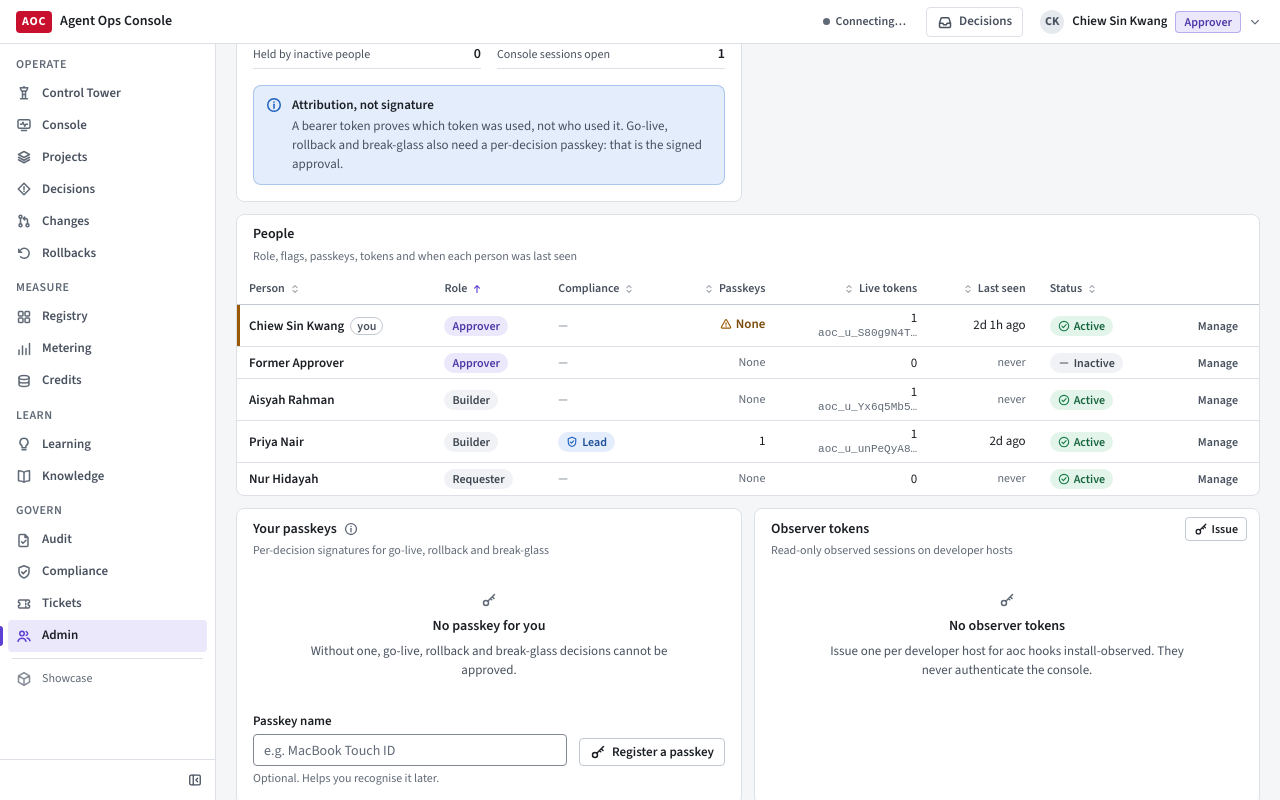
Admin › Users page › issues a token: secret shown once with copy and the attribution caveat, then only its prefix
(page scrolled)
Click the row named "Manage Aisyah Rahman" at (748, 400), box [237,379,1259,421]
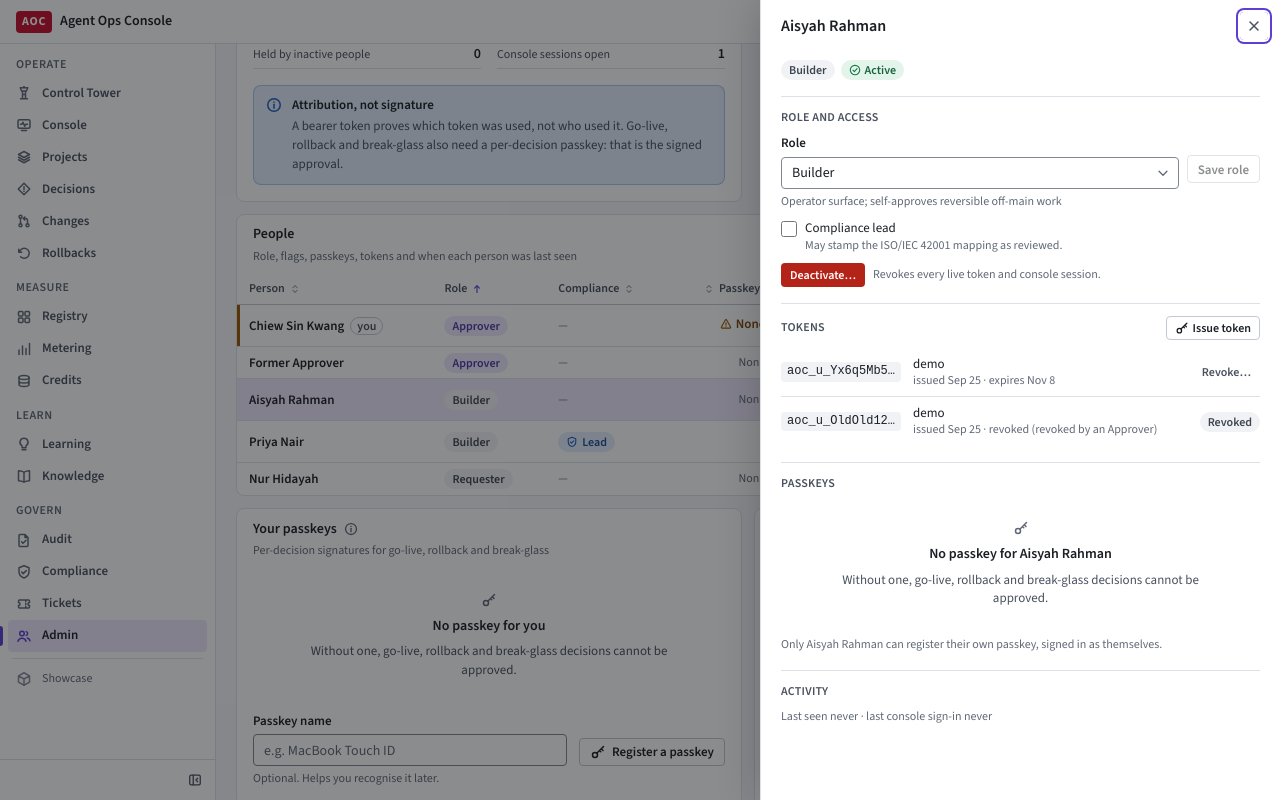
Expected: the text "aoc_u_Yx6q5Mb5…" is shown, [781,362,901,382]
Click the button "Issue token" at (1213, 328), box [1166,316,1260,340]
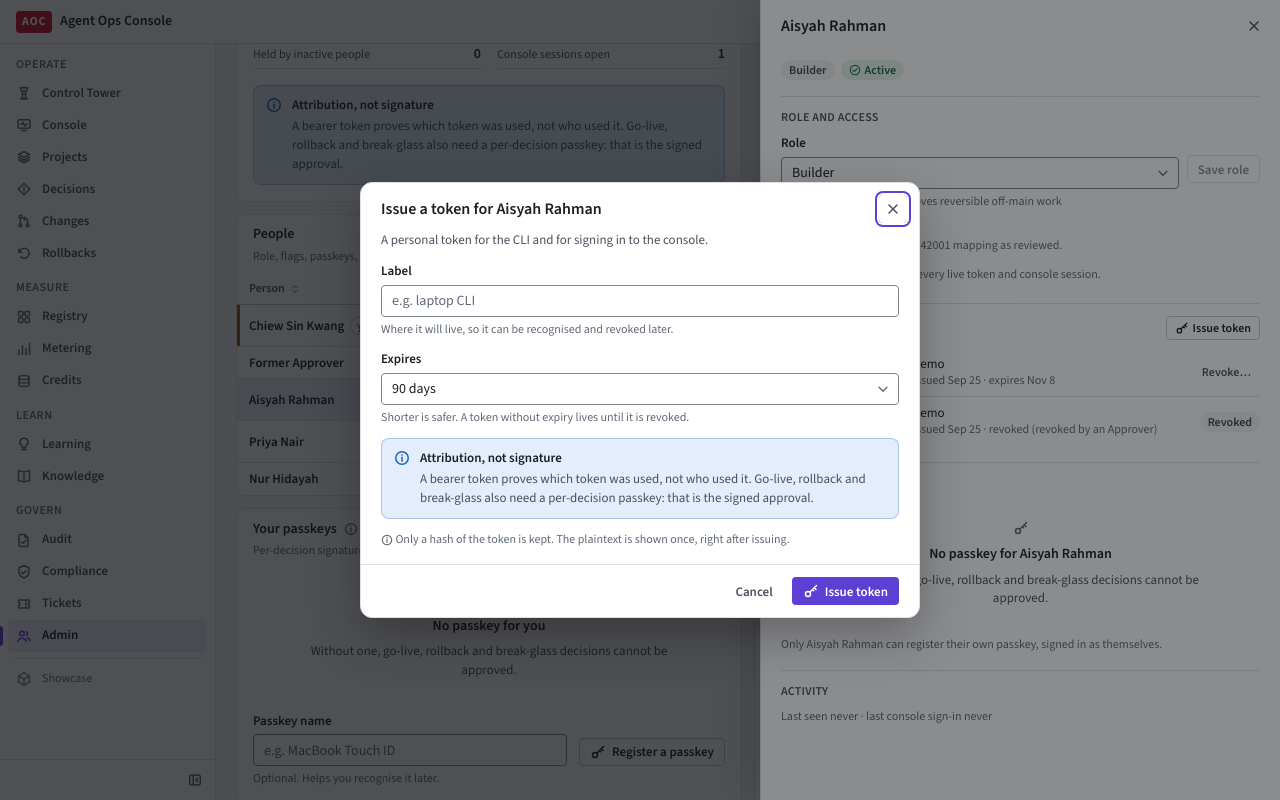
Expected: the text "Attribution, not signature" is shown, [420,449,562,466]
Type "laptop CLI" into the field labelled "Label" at (640, 301), box [381,285,899,317]
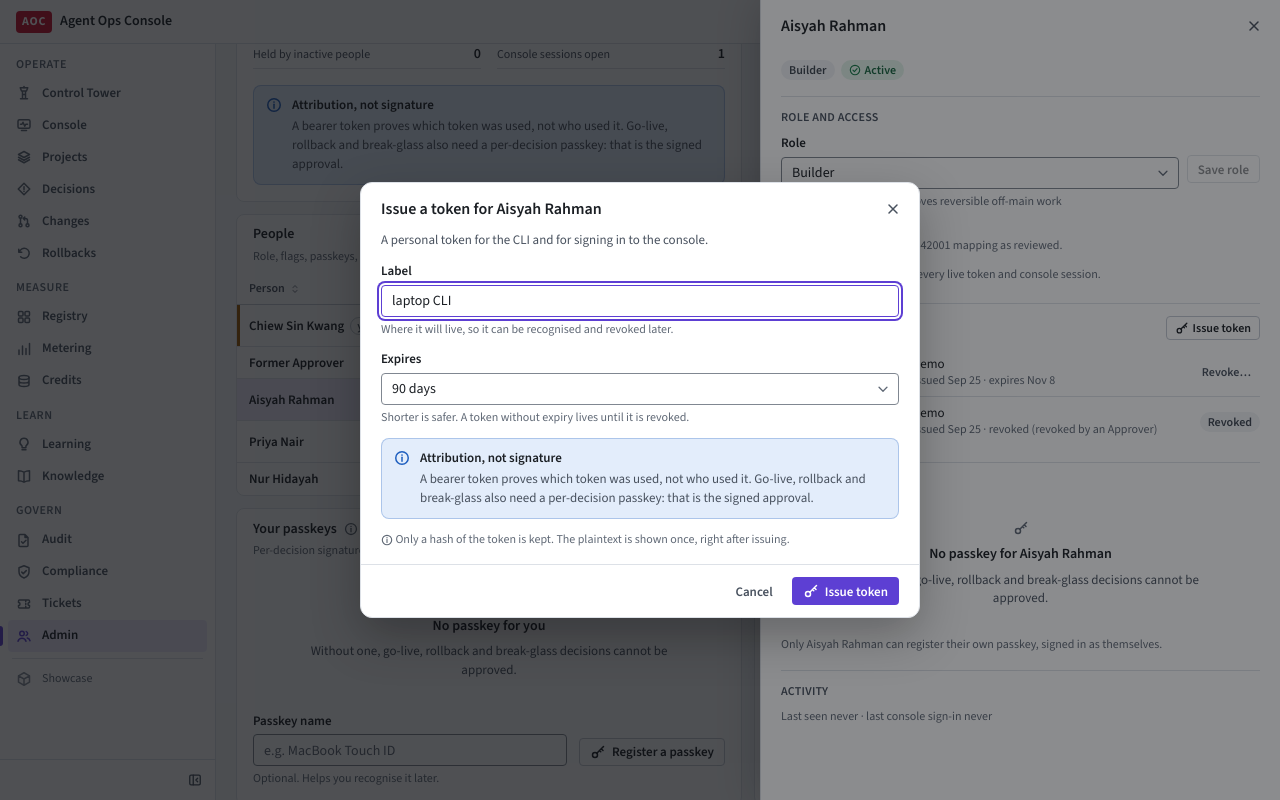
Select "30 days" in the dropdown labelled "Expires" at (640, 389), box [381,373,899,405]
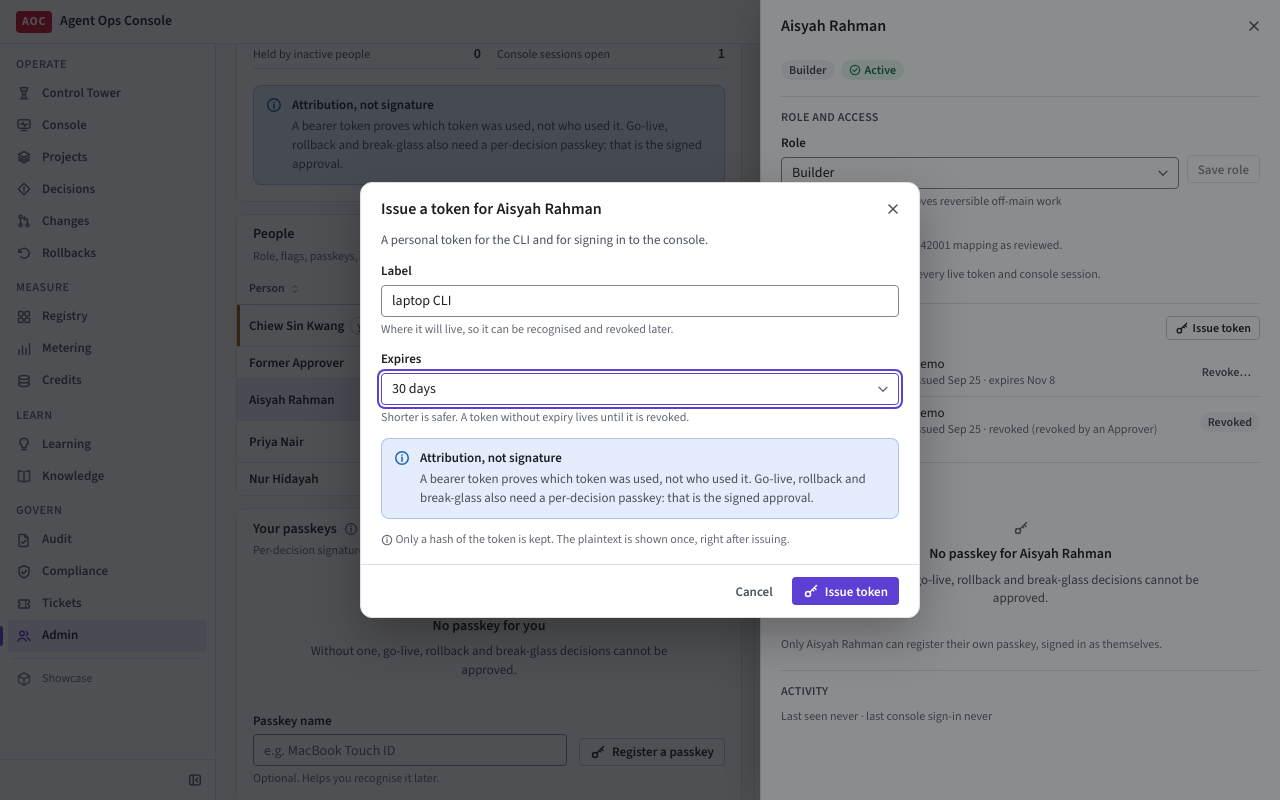
Click the button "Issue token" at (845, 591), box [792,577,899,605]
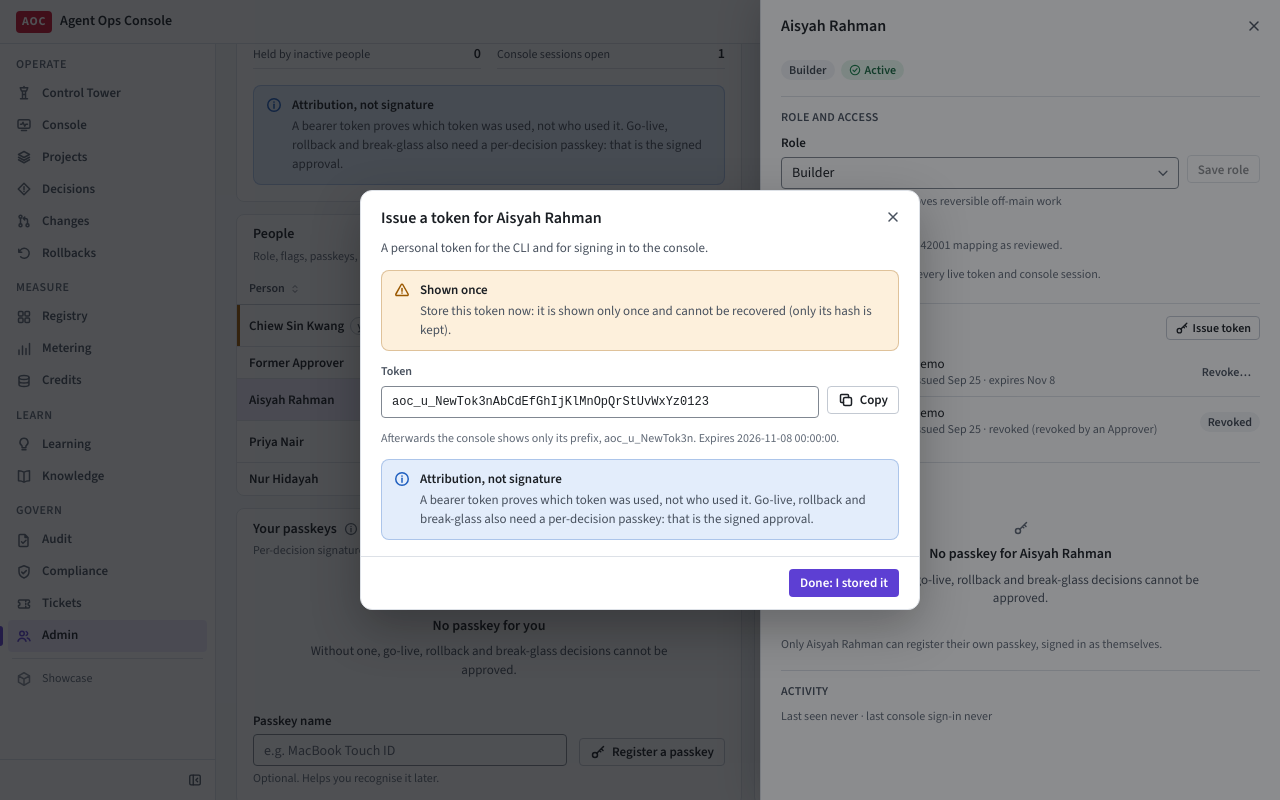
Expected: the text "Attribution, not signature" is shown, [420,470,562,487]
Expected: the field labelled "Token" holds "aoc_u_NewTok3nAbCdEfGhIjKlMnOpQrStUvWxYz0123", [381,386,819,418]
Expected: the text "Store this token now: it is shown only once and cannot be recovered (only its hash is kept)." is shown, [420,302,872,338]
Click the button "Done: I stored it" at (844, 583), box [789,569,899,597]
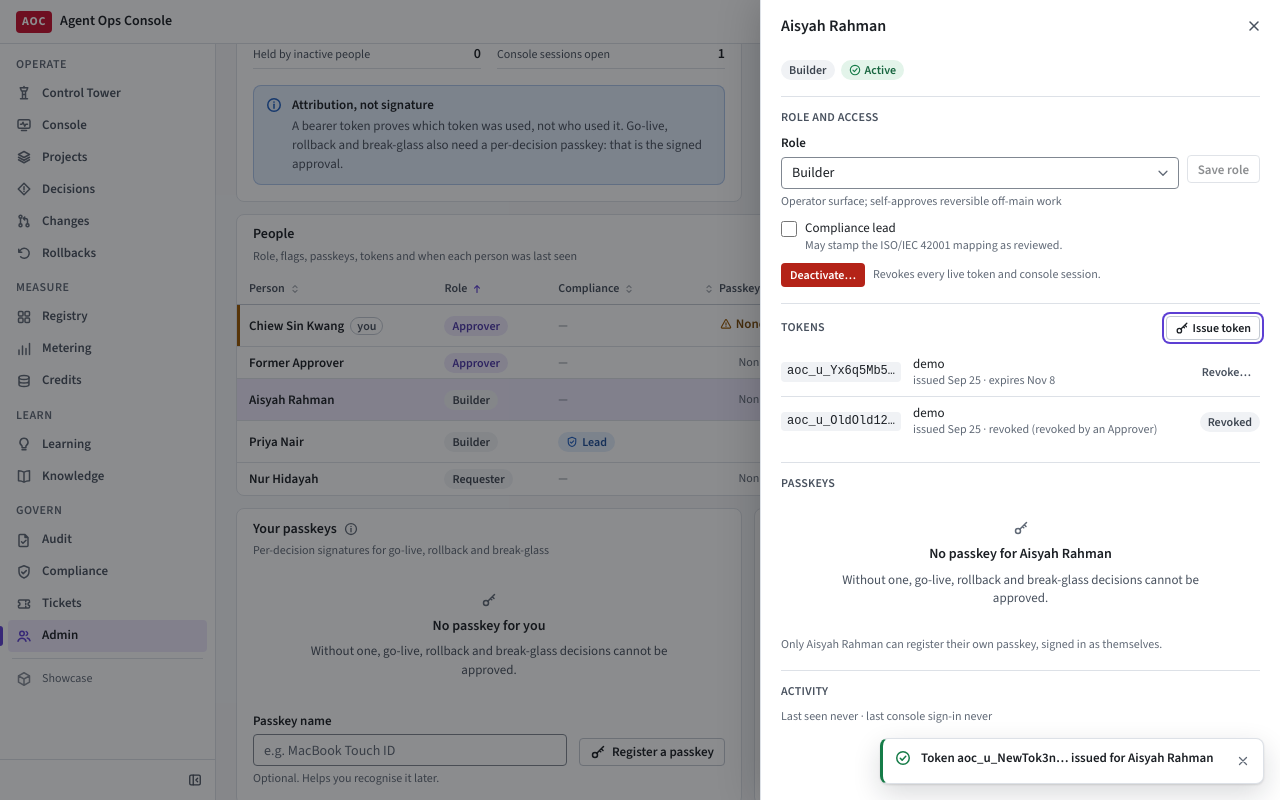
Expected: the text "aoc_u_NewTok3nAbCdEfGhIjKlMnOpQrStUvWxYz0123" is not shown
Expected: the heading "Issue a token" is gone
